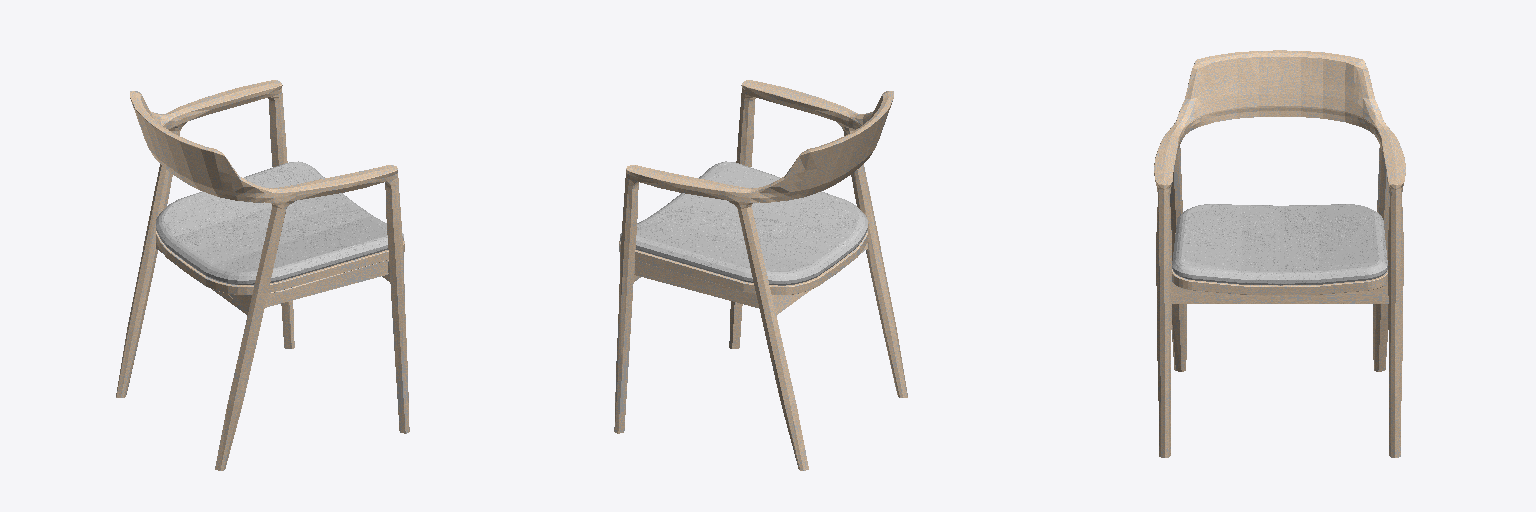
3 views of the same model, side by side, from view 1: azimuth 30°, elevation 25°; view 2: azimuth 150°, elevation 25°; view 3: azimuth 270°, elevation 25° (orthographic).
Parts seen in each view (by area): view 1: mesh1_mesh1-geometry, mesh7_mesh7-geometry, mesh6_mesh6-geometry, mesh3_mesh3-geometry; view 2: mesh1_mesh1-geometry, mesh7_mesh7-geometry, mesh6_mesh6-geometry, mesh5_mesh5-geometry; view 3: mesh1_mesh1-geometry, mesh7_mesh7-geometry, mesh2_mesh2-geometry, mesh6_mesh6-geometry.
Boxes of the visible parts, box(x1,y1,x2,y2) form: mesh1_mesh1-geometry: box(116, 80, 409, 470); mesh7_mesh7-geometry: box(156, 161, 403, 284); mesh6_mesh6-geometry: box(156, 231, 404, 294); mesh3_mesh3-geometry: box(265, 260, 388, 307); mesh1_mesh1-geometry: box(614, 80, 907, 470); mesh7_mesh7-geometry: box(620, 161, 867, 285); mesh6_mesh6-geometry: box(619, 231, 867, 294); mesh5_mesh5-geometry: box(634, 261, 758, 307); mesh1_mesh1-geometry: box(1154, 50, 1405, 457); mesh7_mesh7-geometry: box(1172, 204, 1387, 285); mesh2_mesh2-geometry: box(1171, 282, 1388, 303); mesh6_mesh6-geometry: box(1172, 233, 1387, 294).
Size of the model in its own units: 0.4878 by 0.7032 by 0.5173.
3 materials, 2 textured.